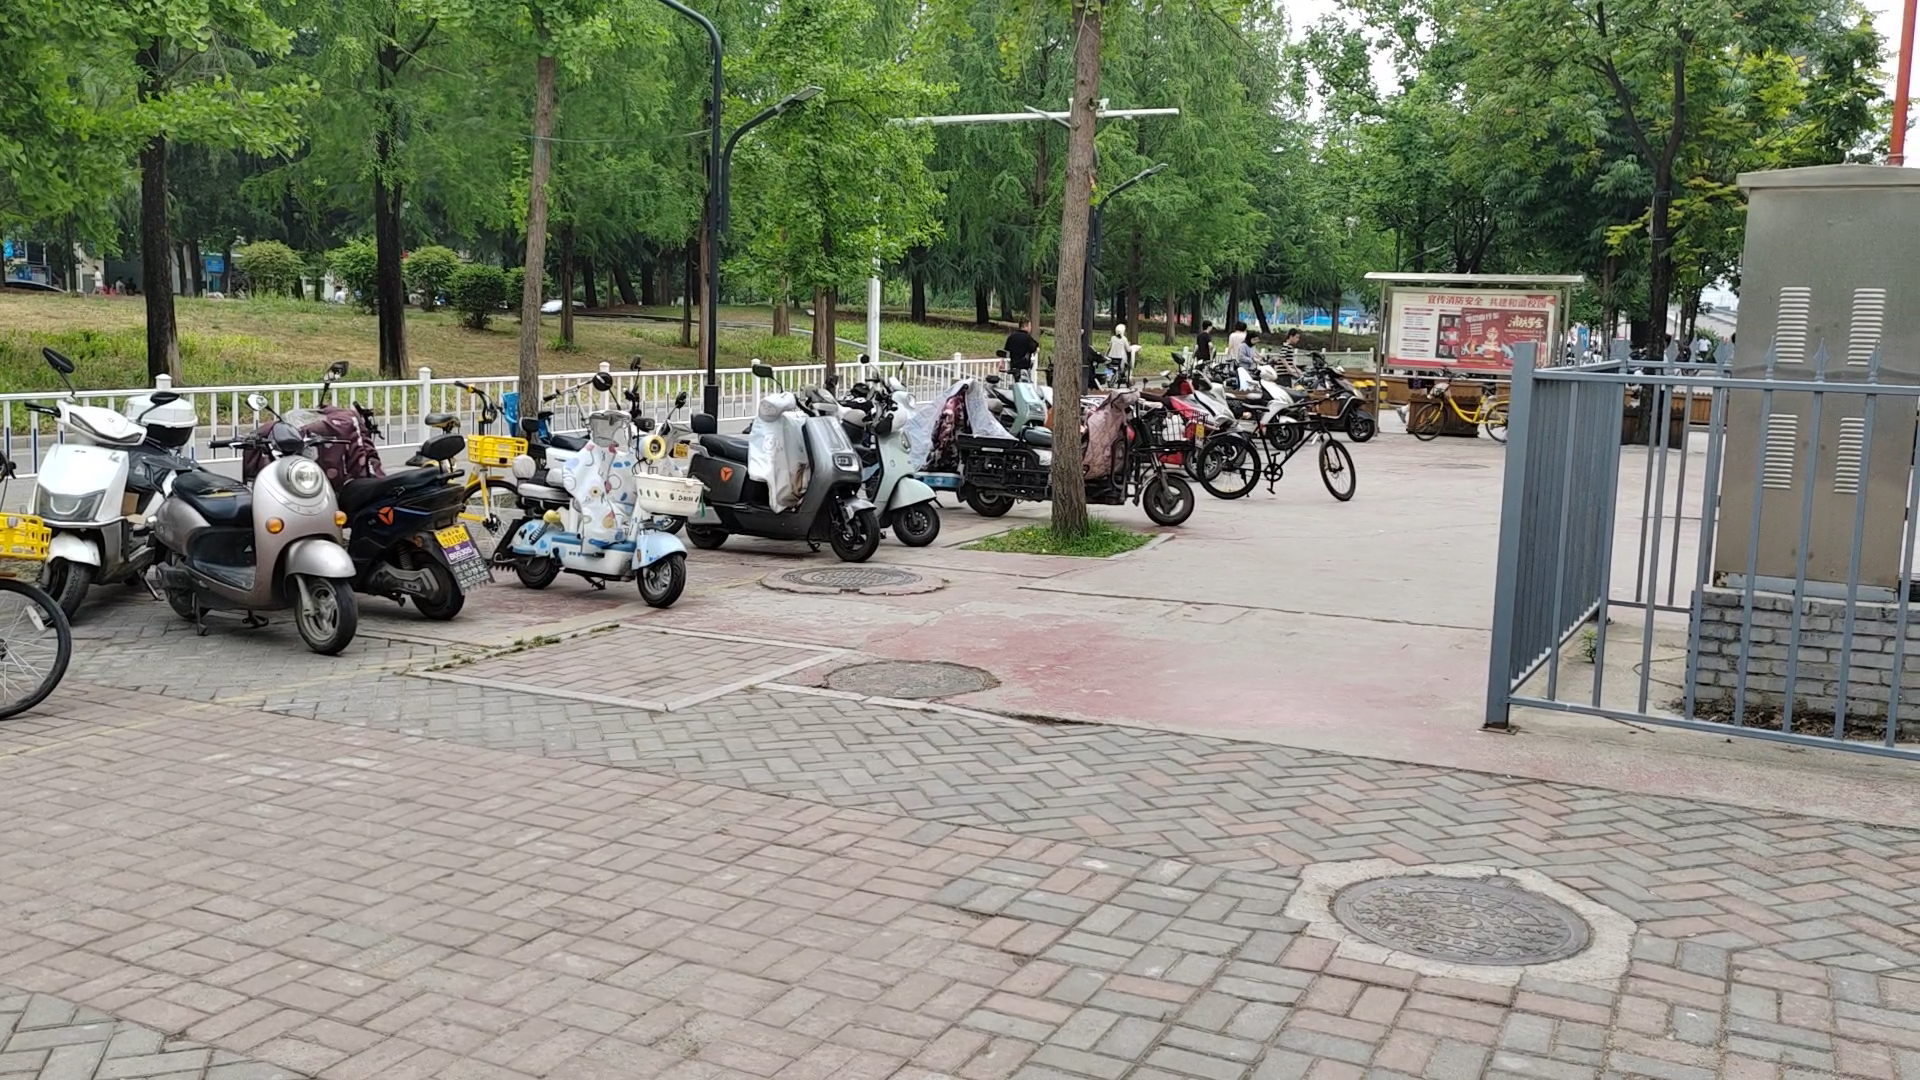others: (239, 364, 448, 647), (938, 342, 1204, 537), (518, 369, 686, 617), (177, 439, 357, 646), (690, 381, 885, 564), (61, 359, 189, 607), (820, 349, 952, 564), (1188, 394, 1375, 502), (1393, 349, 1516, 458)
shared_bike_meituan: (407, 381, 545, 575)
